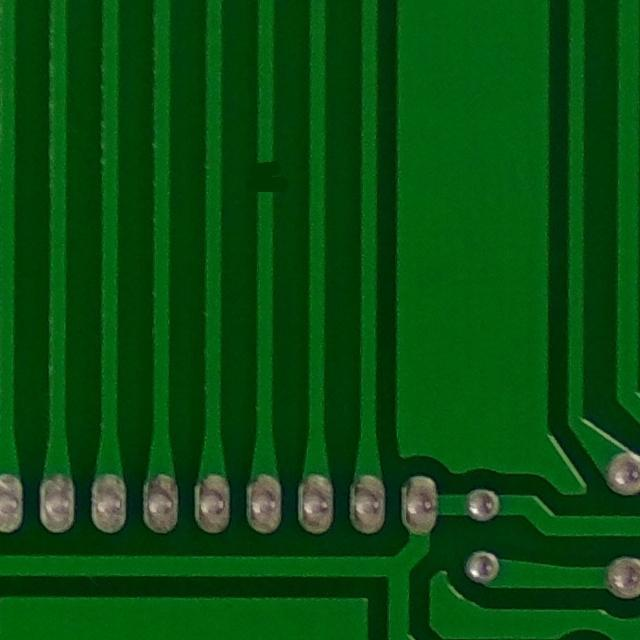open_circuit: (237, 150, 289, 201)
